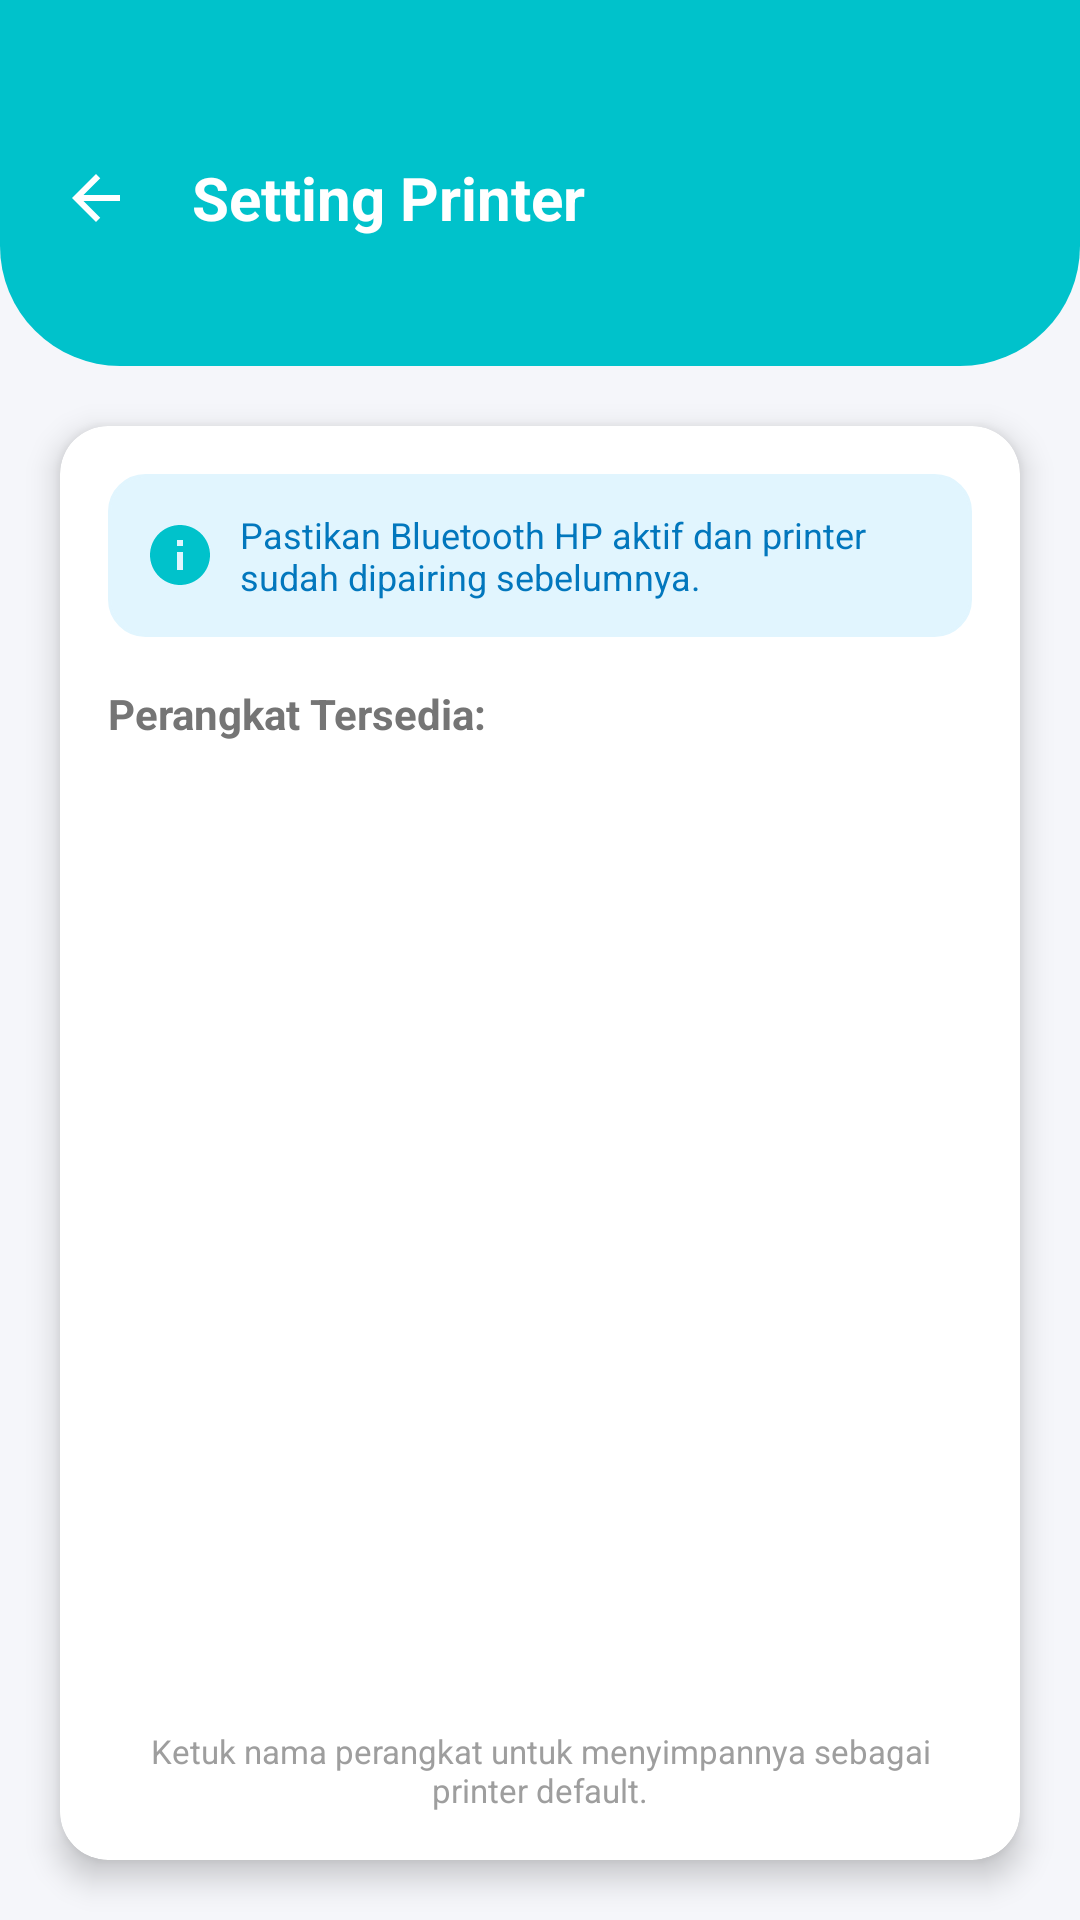

Icons on this 1080x1920 Android screen, each with its box as detection(x1, y1, x2, y2):
arrow back: detection(72, 174, 120, 222)
info: detection(150, 525, 210, 585)
